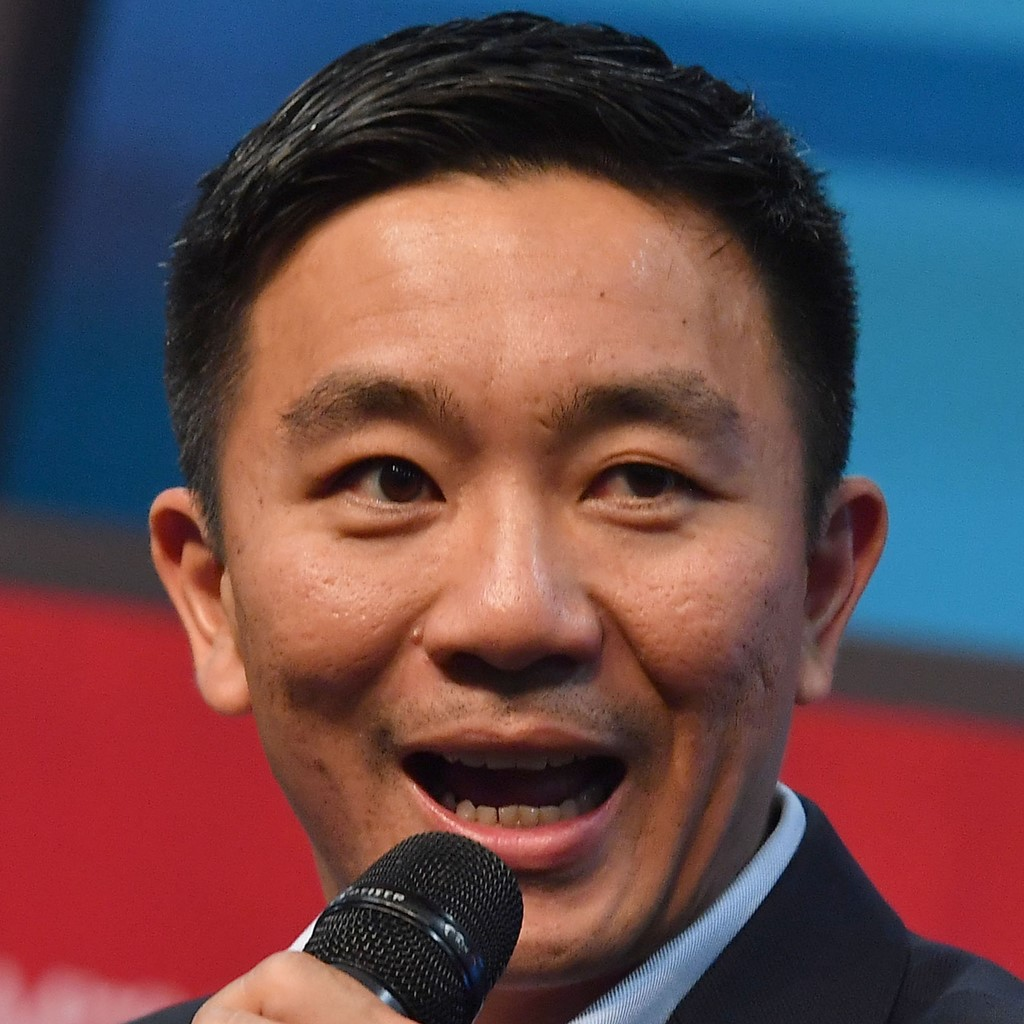sin_mascara: (181, 144, 831, 963)
